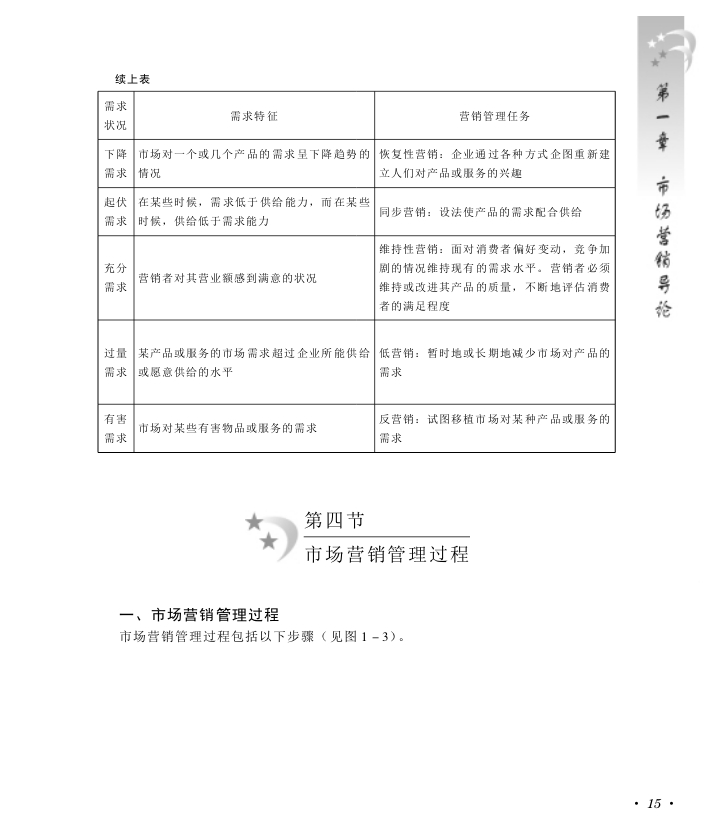table: (96, 89, 616, 454)
